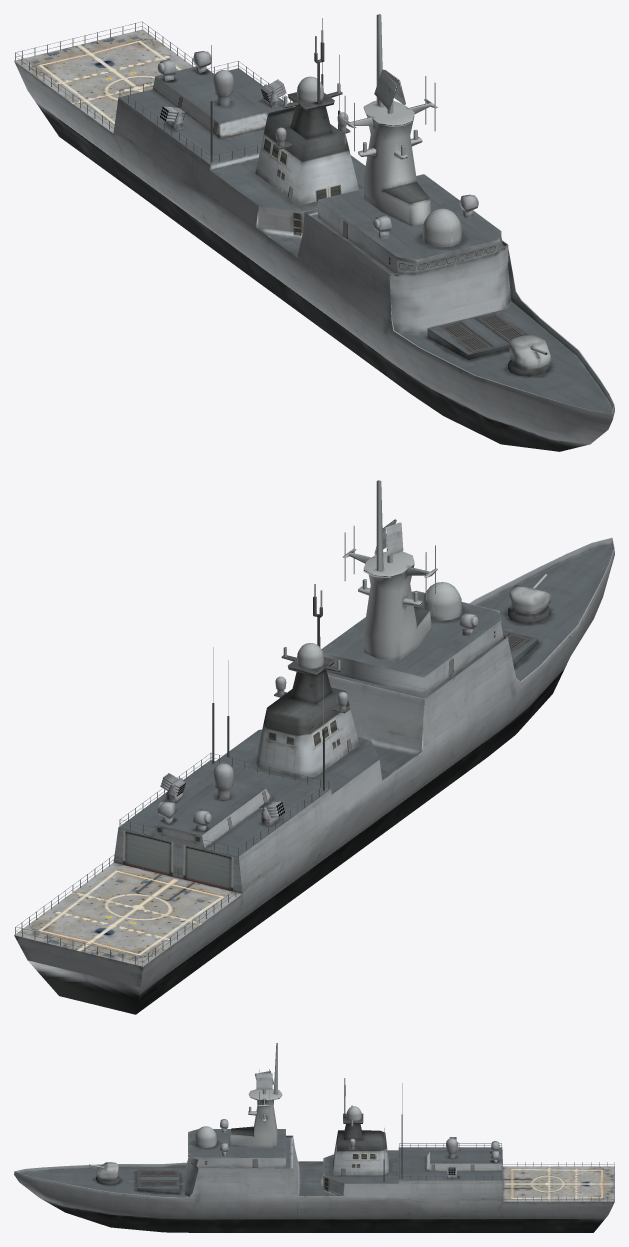
Rendered from frigate.glb.
3 views of the same model, one above another, from view 1: azimuth 30°, elevation 25°; view 2: azimuth 150°, elevation 25°; view 3: azimuth 270°, elevation 25° (orthographic). The views are drawn at different scales.
Parts seen in each view (by area): view 1: pCube35; view 2: pCube35; view 3: pCube35.
Part boxes in pixels (<box>): pCube35: <box>14,14,614,451</box>; pCube35: <box>14,480,614,1014</box>; pCube35: <box>14,1043,614,1232</box>.
Bounding box in the file's own units: 14.5 × 34.19 × 104.
Materials: 2 (2 with a texture image).
